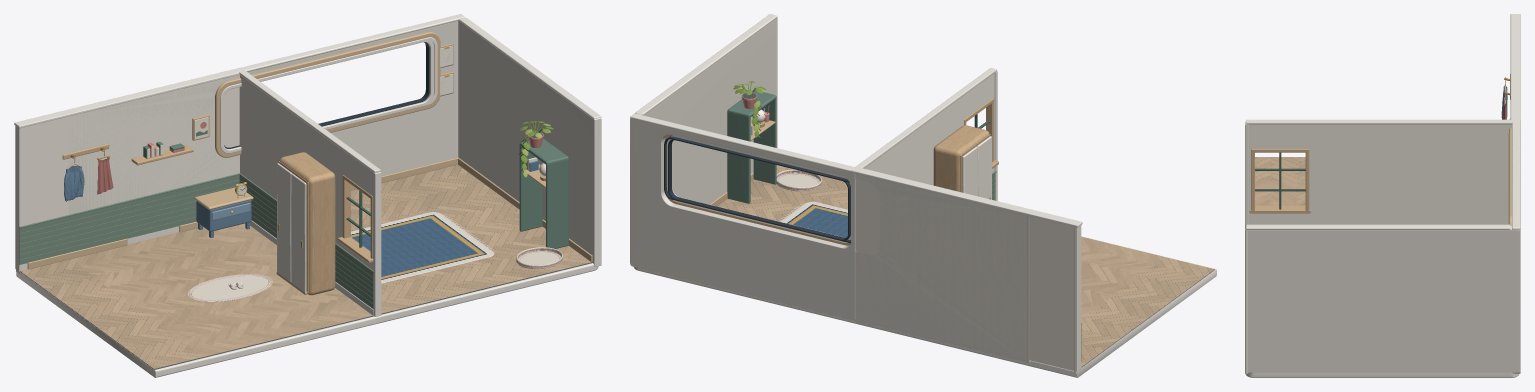
Rendered from open-cabin.glb.
The picture shows the model from 3 angles, left to right: view 1: azimuth 30°, elevation 25°; view 2: azimuth 150°, elevation 25°; view 3: azimuth 270°, elevation 25°; orthographic projection. The views are drawn at different scales.
Parts seen in each view (by area): view 1: Duplex_UpperShell, Duplex_LowerShell, Floor_Parquet_Bedroom, Shell, Floor_Parquet, Floor_Parquet_Upper, Rugs, Wardrobe_Case, Shelf_Gallery, Duplex_BedroomBase, Duplex_DeckBase, Nightstand (+3 smaller); view 2: Shell, Duplex_UpperShell, Duplex_LowerShell, Floor_Parquet_Bedroom, Shelf_Gallery, Floor_Parquet, Wardrobe_Case, Duplex_BedroomBase, Rugs, Floor_Parquet_Upper, Wardrobe_SlidingDoor, Duplex_DeckBase; view 3: Duplex_LowerShell, Duplex_UpperShell, Floor_Parquet_Bedroom, Duplex_DeckBase, Shell, Floor_Parquet_Upper.
Part boxes in pixels (<box>): Duplex_UpperShell: <box>14,67,381,316</box>; Duplex_LowerShell: <box>237,14,601,266</box>; Floor_Parquet_Bedroom: <box>20,223,371,368</box>; Shell: <box>67,14,594,362</box>; Floor_Parquet: <box>351,164,590,313</box>; Floor_Parquet_Upper: <box>70,225,372,355</box>; Rugs: <box>351,212,562,283</box>; Wardrobe_Case: <box>276,152,335,295</box>; Shelf_Gallery: <box>519,121,568,248</box>; Duplex_BedroomBase: <box>16,262,374,377</box>; Duplex_DeckBase: <box>351,168,598,323</box>; Nightstand: <box>194,182,253,237</box>; Shell: <box>630,114,1162,364</box>; Duplex_UpperShell: <box>851,68,1082,374</box>; Duplex_LowerShell: <box>630,14,858,320</box>; Floor_Parquet_Bedroom: <box>1081,237,1214,366</box>; Shelf_Gallery: <box>727,81,776,203</box>; Floor_Parquet: <box>717,165,847,221</box>; Wardrobe_Case: <box>933,125,990,196</box>; Duplex_BedroomBase: <box>859,237,1216,377</box>; Rugs: <box>776,169,847,237</box>; Floor_Parquet_Upper: <box>1081,236,1162,316</box>; Wardrobe_SlidingDoor: <box>977,136,991,199</box>; Duplex_DeckBase: <box>634,169,855,323</box>; Duplex_LowerShell: <box>1245,120,1520,374</box>; Duplex_UpperShell: <box>1245,14,1520,225</box>; Floor_Parquet_Bedroom: <box>1255,157,1305,205</box>; Duplex_DeckBase: <box>1246,372,1518,377</box>; Shell: <box>1508,38,1520,227</box>; Floor_Parquet_Upper: <box>1255,180,1305,205</box>.
Bounding box in the file's own units: 12.11 × 4.04 × 6.6.
Materials: 50 (4 with a texture image).
